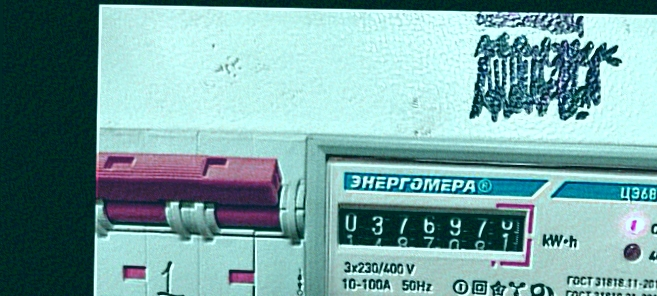0: (344, 210, 358, 233)
1: (500, 231, 512, 251)
3: (371, 215, 386, 236)
6: (423, 212, 438, 235)
7: (396, 212, 412, 237), (474, 216, 490, 239)
9: (448, 214, 463, 237)
screen: (329, 190, 539, 270)
